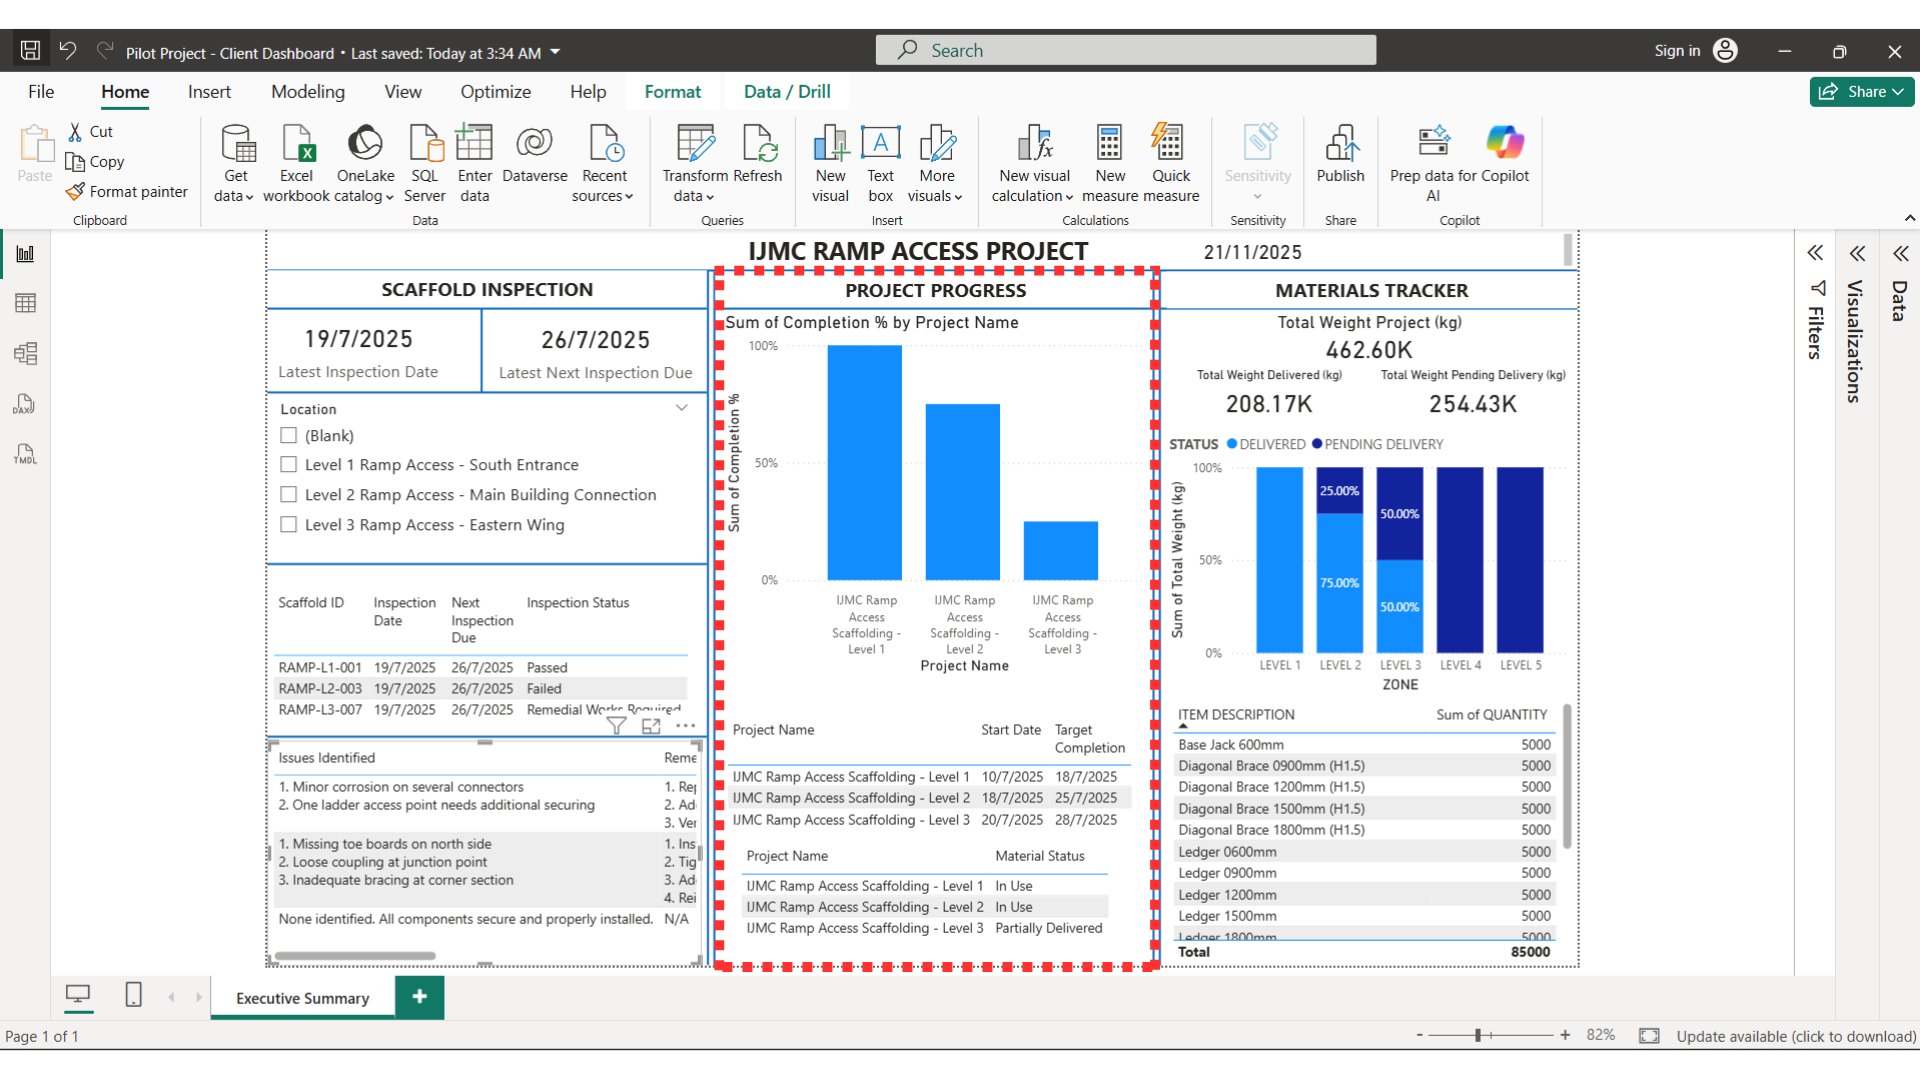

The dashboard page shown, as its layout file describes it:
{"tool":"powerbi","page":{"name":"Executive Summary","canvas":[1280,720],"ordinal":0},"visuals":[{"type":"textbox","box":[0,0,1280.3,41.6],"z":0},{"type":"shape","box":[0,34,1280,12.6],"z":1000},{"type":"textbox","box":[0,40.9,430.9,37],"z":2000},{"type":"shape","box":[424.1,40.9,12.6,678.9],"z":3000},{"type":"tableEx","fields":{"Values":["Scaffold Inspection Database.Scaffold ID","Scaffold Inspection Database.Inspection Date","Scaffold Inspection Database.Next Inspection Due","Scaffold Inspection Database.Inspection Status"]},"box":[0,348.2,424.1,144.9],"z":4000},{"type":"card","fields":{"Values":["Max(Scaffold Inspection Database.Inspection Date)"]},"box":[0,74.7,178.7,84.5],"z":5000},{"type":"card","fields":{"Values":["Scaffold Inspection Database.Todays Date"]},"box":[905.3,7.6,117,31.4],"z":6000},{"type":"slicer","fields":{"Values":["Scaffold Inspection Database.Location"]},"box":[0,162.4,424.1,161.5],"z":7000},{"type":"shape","box":[0,323.9,429.9,6.8],"z":8000},{"type":"shape","box":[0,74.7,429.9,6.5],"z":9000},{"type":"tableEx","fields":{"Values":["Scaffold Inspection Database.Issues Identified","Scaffold Inspection Database.Remedial Actions","Scaffold Inspection Database.Notes"]},"box":[0,499.9,424.1,219.8],"z":10000},{"type":"shape","box":[0,155.9,429.9,6.5],"z":11000},{"type":"shape","box":[0,493.1,429.9,6.8],"z":12000},{"type":"shape","box":[429.9,41.2,13,679],"z":13000},{"type":"card","fields":{"Values":["Max(Scaffold Inspection Database.Next Inspection Due)"]},"box":[215.5,81.2,212.3,74.7],"z":14000},{"type":"shape","box":[202.5,78,13,81.2],"z":15000},{"type":"textbox","box":[437.5,41.2,431,36.8],"z":16000},{"type":"shape","box":[859.8,41.2,13,679],"z":17000},{"type":"shape","box":[436.4,74.7,429.9,6.5],"z":18000},{"type":"columnChart","fields":{"Category":["TESS Project Progress Tracker.Project Name"],"Y":["Sum(TESS Project Progress Tracker.Completion %)"]},"box":[442.9,81.2,416.9,359.5],"z":19000},{"type":"tableEx","fields":{"Values":["TESS Project Progress Tracker.Project Name","TESS Project Progress Tracker.Start Date","TESS Project Progress Tracker.Target Completion"]},"box":[444,473.2,416.9,123.5],"z":20000},{"type":"tableEx","fields":{"Values":["TESS Project Progress Tracker.Project Name","TESS Project Progress Tracker.Material Status"]},"box":[457,596.7,390.9,123.5],"z":21000},{"type":"shape","box":[866.3,41.2,13,679],"z":22000},{"type":"shape","box":[872.8,74.7,407.2,6.5],"z":23000},{"type":"textbox","box":[879.3,41.2,400.7,35.7],"z":24000},{"type":"card","title":"Total Weight Project (kg)","fields":{"Values":["TESS Project Progress Tracker.Total Weight Project (kg)"]},"box":[934.6,81.2,285.9,54.1],"z":25000},{"type":"card","title":"Total Weight Delivered (kg)","fields":{"Values":["Sum(IJMC Materials Tracker.Total Weight (kg))"]},"box":[879.3,135.4,200.3,54.1],"z":26000},{"type":"card","title":"Total Weight Pending Delivery (kg)","fields":{"Values":["Sum(IJMC Materials Tracker.Total Weight (kg))"]},"box":[1077.5,135.4,202.5,54.1],"z":27000},{"type":"hundredPercentStackedColumnChart","fields":{"Category":["IJMC Materials Tracker.ZONE"],"Y":["Sum(IJMC Materials Tracker.Total Weight (kg))"],"Series":["IJMC Materials Tracker.STATUS"]},"box":[877.2,189.5,400.7,268.6],"z":28000},{"type":"tableEx","fields":{"Values":["IJMC Materials Tracker.ITEM DESCRIPTION","Sum(IJMC Materials Tracker.QUANTITY)"]},"box":[879.3,458.1,400.7,262.1],"z":29000}]}

Visuals, with their boxes on the page's 1280x720 design canvas (x1, y1, x2, y2). These are canvas units, not pixel positions in the 1920x1080 screenshot, which may show the page scaled, cropped or inside an application window:
textbox: <bbox>0, 0, 1280, 42</bbox>
shape: <bbox>0, 34, 1280, 47</bbox>
textbox: <bbox>0, 41, 431, 78</bbox>
shape: <bbox>424, 41, 437, 720</bbox>
tableEx - Scaffold Inspection Database.Scaffold ID x Scaffold Inspection Database.Inspection Date: <bbox>0, 348, 424, 493</bbox>
card - Max(Scaffold Inspection Database.Inspection Date): <bbox>0, 75, 179, 159</bbox>
card - Scaffold Inspection Database.Todays Date: <bbox>905, 8, 1022, 39</bbox>
slicer - Scaffold Inspection Database.Location: <bbox>0, 162, 424, 324</bbox>
shape: <bbox>0, 324, 430, 331</bbox>
shape: <bbox>0, 75, 430, 81</bbox>
tableEx - Scaffold Inspection Database.Issues Identified x Scaffold Inspection Database.Remedial Actions: <bbox>0, 500, 424, 720</bbox>
shape: <bbox>0, 156, 430, 162</bbox>
shape: <bbox>0, 493, 430, 500</bbox>
shape: <bbox>430, 41, 443, 720</bbox>
card - Max(Scaffold Inspection Database.Next Inspection Due): <bbox>216, 81, 428, 156</bbox>
shape: <bbox>202, 78, 216, 159</bbox>
textbox: <bbox>438, 41, 868, 78</bbox>
shape: <bbox>860, 41, 873, 720</bbox>
shape: <bbox>436, 75, 866, 81</bbox>
columnChart - TESS Project Progress Tracker.Project Name x Sum(TESS Project Progress Tracker.Completion %): <bbox>443, 81, 860, 441</bbox>
tableEx - TESS Project Progress Tracker.Project Name x TESS Project Progress Tracker.Start Date: <bbox>444, 473, 861, 597</bbox>
tableEx - TESS Project Progress Tracker.Project Name x TESS Project Progress Tracker.Material Status: <bbox>457, 597, 848, 720</bbox>
shape: <bbox>866, 41, 879, 720</bbox>
shape: <bbox>873, 75, 1280, 81</bbox>
textbox: <bbox>879, 41, 1280, 77</bbox>
"Total Weight Project (kg)" card: <bbox>935, 81, 1220, 135</bbox>
"Total Weight Delivered (kg)" card: <bbox>879, 135, 1080, 190</bbox>
"Total Weight Pending Delivery (kg)" card: <bbox>1078, 135, 1280, 190</bbox>
hundredPercentStackedColumnChart - IJMC Materials Tracker.ZONE x Sum(IJMC Materials Tracker.Total Weight (kg)): <bbox>877, 190, 1278, 458</bbox>
tableEx - IJMC Materials Tracker.ITEM DESCRIPTION x Sum(IJMC Materials Tracker.QUANTITY): <bbox>879, 458, 1280, 720</bbox>
